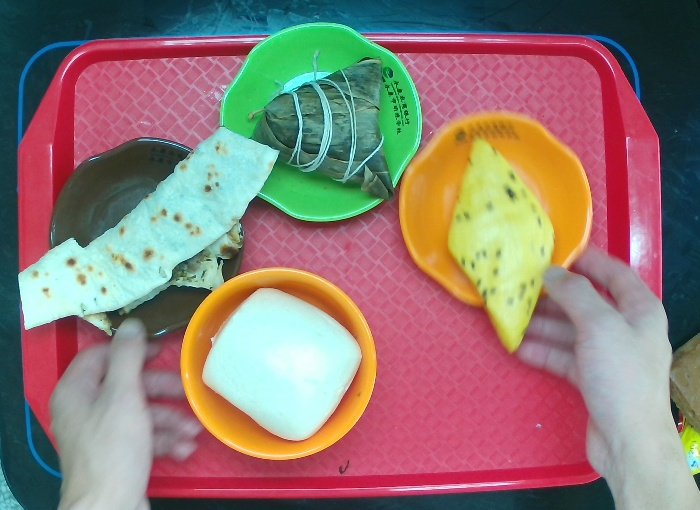YKMZ-Ju_Se_Ao_Bian_Wan: (394, 111, 596, 307)
YKMZ-Ju_Se_Yuan_Wan: (182, 267, 385, 465)
YKMZ-Ka_Fei_Ao_Bian_Wan: (44, 130, 244, 333)
YKMZ-Lv_Se_Ao_Bian_Wan: (224, 24, 425, 227)
